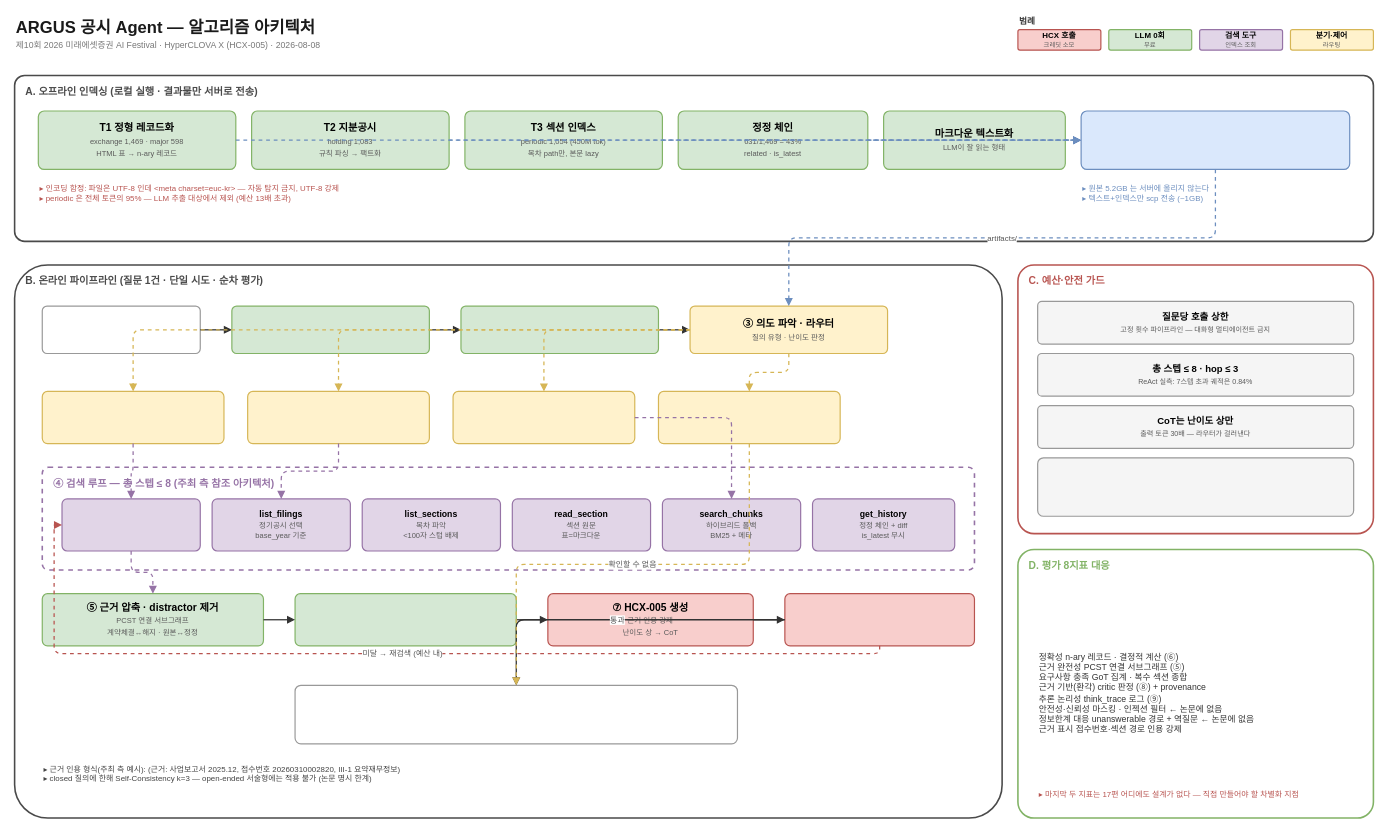
This 1387x832 diagram has some shape labels left out. Each missing label, with the centre of its shape:
"closed_lookup 단순 조회 · CoT 없음 호출 최소" belongs at pixel 132 417.
"complex_reason 복합 추론 · ToG-2 반복 hop ≤ 3" belongs at pixel 543 417.
"GET /answer question_id · question" belongs at pixel 121 329.
"multi_compare 비교·연산 · GoT 집계 기업×연도 병렬" belongs at pixel 338 417.
"query_events 정형 조회 is_latest=true" belongs at pixel 131 524.
"unanswerable 범위 밖 · 근거 없음 → 한계 고지 / 역질문" belongs at pixel 749 417.
"① 질의 정규화·기업 해소 resolve_company · 별칭 사전" belongs at pixel 330 329.
"② 메타데이터 프리필터 manifest 4,204 → 후보 축소" belongs at pixel 559 329.
"⑥ 결정적 계산 증감률 · 비중 · 합산 기간 산정 (LLM 금지)" belongs at pixel 405 619.
"⑧ critic 판정 근거가 답변을 지지하는가 판단 45% > 생성 26%" belongs at pixel 879 619.
"⑨ 응답 조립 answer · retrieved_context (근거 원문+접수번호) · think_trace (스텝 로그)" belongs at pixel 516 714.
"이중 종료 장치 자연어 TERMINATE + 코드 상한 LLM은 calibration 안 됨 → 자기 종료 판단 불신" belongs at pixel 1195 487.
"인덱스 산출물 artifacts/ BM25 · 메타(manifest·universe) (선택) n-ary 하이퍼엣지 — HCX 사용" belongs at pixel 1215 140.
